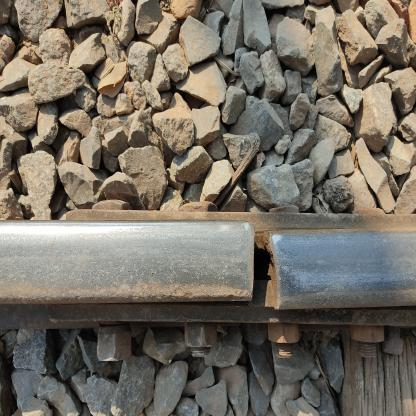Defective 2: (218, 206, 304, 338)
